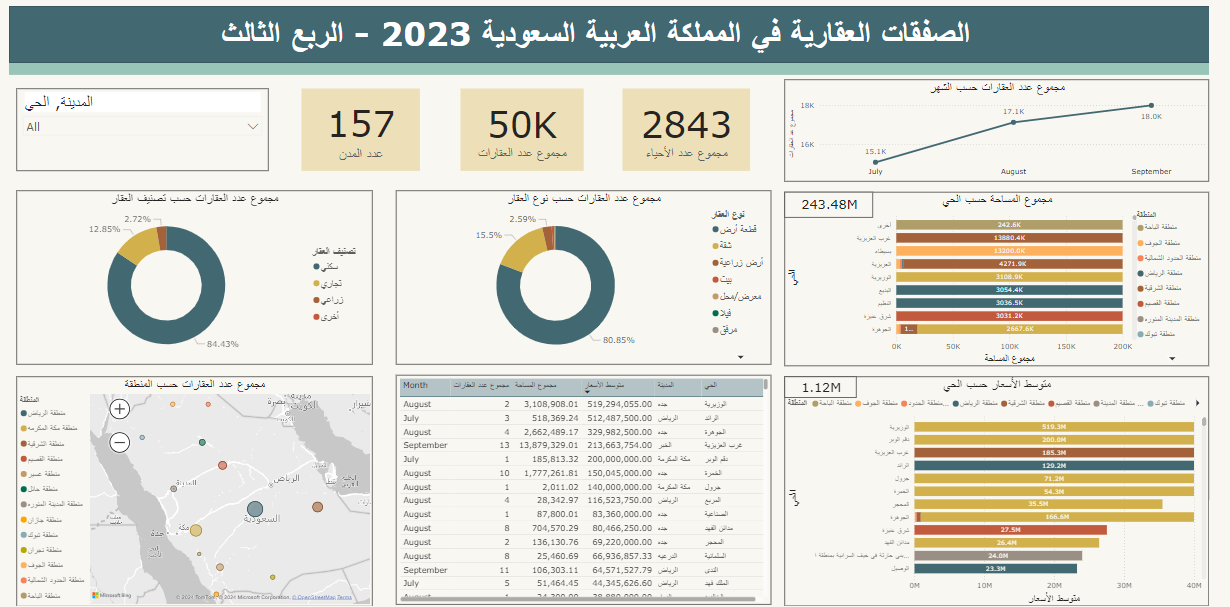

What the dashboard file says about the page in this screenshot:
{"tool":"powerbi","page":{"name":"الصفقات العقارية","canvas":[2000,1000],"ordinal":0},"visuals":[{"type":"map","title":"مجموع عدد العقارات حسب المنطقة","fields":{"Series":["00-0411-1-2_الصفقات العقارية.المنطقة"],"Size":["Sum(00-0411-1-2_الصفقات العقارية.عدد العقارات)"],"Category":["00-0411-1-2_الصفقات العقارية.المنطقة"]},"box":[13.3,616.7,593.3,383.3],"z":0},{"type":"donutChart","title":"مجموع عدد العقارات حسب تصنيف العقار","fields":{"Category":["00-0411-1-2_الصفقات العقارية.تصنيف العقار"],"Y":["Sum(00-0411-1-2_الصفقات العقارية.عدد العقارات)"]},"box":[13.3,306.7,593.3,290],"z":1000},{"type":"donutChart","title":"مجموع عدد العقارات حسب نوع العقار","fields":{"Category":["00-0411-1-2_الصفقات العقارية.نوع العقار"],"Y":["Sum(00-0411-1-2_الصفقات العقارية.عدد العقارات)"]},"box":[645,307.5,625,290],"z":2000},{"type":"shape","box":[0,25,432.5,52.5],"z":3000},{"type":"card","fields":{"Values":["Count(00-0411-1-2_الصفقات العقارية.المدينة)"]},"box":[487.5,137.5,197.5,137.5],"z":4000},{"type":"tableEx","fields":{"Values":["00-0411-1-2_الصفقات العقارية.تاريخ الصفقة ميلادي.Variation.Date Hierarchy.Month","Sum(00-0411-1-2_الصفقات العقارية.عدد العقارات)","Sum(00-0411-1-2_الصفقات العقارية.المساحة)","Avg(00-0411-1-2_الصفقات العقارية.السعر)","00-0411-1-2_الصفقات العقارية.المدينة","00-0411-1-2_الصفقات العقارية.الحي"]},"box":[645,615,625,382.5],"z":5000},{"type":"barChart","title":"مجموع المساحة حسب  الحي","fields":{"Category":["00-0411-1-2_الصفقات العقارية.الحي"],"Y":["Sum(00-0411-1-2_الصفقات العقارية.المساحة)"],"Series":["00-0411-1-2_الصفقات العقارية.المنطقة"]},"box":[1292.5,310,707.5,290],"z":6000},{"type":"barChart","title":"متوسط الأسعار حسب  الحي","fields":{"Category":["00-0411-1-2_الصفقات العقارية.الحي"],"Y":["Avg(00-0411-1-2_الصفقات العقارية.السعر)"],"Series":["00-0411-1-2_الصفقات العقارية.المنطقة"]},"box":[1292.5,617.5,707.5,382.5],"z":7000},{"type":"shape","box":[0,77.5,2200,37.5],"z":8000},{"type":"shape","box":[0,0,2200,95],"z":9000},{"type":"textbox","box":[327.5,7.5,1300,87.5],"z":10000},{"type":"card","fields":{"Values":["Sum(00-0411-1-2_الصفقات العقارية.عدد العقارات)"]},"box":[752.5,137.5,205,137.5],"z":11000},{"type":"lineChart","title":"مجموع عدد العقارات حسب الشهر","fields":{"Y":["Sum(00-0411-1-2_الصفقات العقارية.عدد العقارات)"],"Category":["00-0411-1-2_الصفقات العقارية.تاريخ الصفقة ميلادي.Variation.Date Hierarchy.Month"]},"box":[1292.5,122.5,707.5,170],"z":12000},{"type":"slicer","fields":{"Values":["00-0411-1-2_الصفقات العقارية.المدينة","00-0411-1-2_الصفقات العقارية.الحي"]},"box":[12.5,137.5,420,137.5],"z":13000},{"type":"card","fields":{"Values":["Count(00-0411-1-2_الصفقات العقارية.الحي)"]},"box":[1022.5,137.5,212.5,137.5],"z":14000},{"type":"card","fields":{"Values":["Sum(00-0411-1-2_الصفقات العقارية.المساحة)"]},"box":[1292.5,310,147.5,42.5],"z":15000},{"type":"card","fields":{"Values":["Avg(00-0411-1-2_الصفقات العقارية.السعر)"]},"box":[1292.5,617.5,120,35],"z":16000}]}

Visuals, with their boxes in screenshot pixels (x1, y1, x2, y2), scaled from the page's 2000x1000 canvas onto the 1230x607 screenshot:
"مجموع عدد العقارات حسب المنطقة" map: detection(8, 374, 373, 606)
"مجموع عدد العقارات حسب تصنيف العقار" donutChart: detection(8, 186, 373, 362)
"مجموع عدد العقارات حسب نوع العقار" donutChart: detection(397, 187, 781, 363)
shape: detection(0, 15, 266, 47)
card - Count(00-0411-1-2_الصفقات العقارية.المدينة): detection(300, 83, 421, 167)
tableEx - 00-0411-1-2_الصفقات العقارية.تاريخ الصفقة ميلادي.Variation.Date Hierarchy.Month x Sum(00-0411-1-2_الصفقات العقارية.عدد العقارات): detection(397, 373, 781, 605)
"مجموع المساحة حسب  الحي" barChart: detection(795, 188, 1229, 364)
"متوسط الأسعار حسب  الحي" barChart: detection(795, 375, 1229, 606)
shape: detection(0, 47, 1229, 70)
shape: detection(0, 0, 1229, 58)
textbox: detection(201, 5, 1001, 58)
card - Sum(00-0411-1-2_الصفقات العقارية.عدد العقارات): detection(463, 83, 589, 167)
"مجموع عدد العقارات حسب الشهر" lineChart: detection(795, 74, 1229, 178)
slicer - 00-0411-1-2_الصفقات العقارية.المدينة x 00-0411-1-2_الصفقات العقارية.الحي: detection(8, 83, 266, 167)
card - Count(00-0411-1-2_الصفقات العقارية.الحي): detection(629, 83, 760, 167)
card - Sum(00-0411-1-2_الصفقات العقارية.المساحة): detection(795, 188, 886, 214)
card - Avg(00-0411-1-2_الصفقات العقارية.السعر): detection(795, 375, 869, 396)
